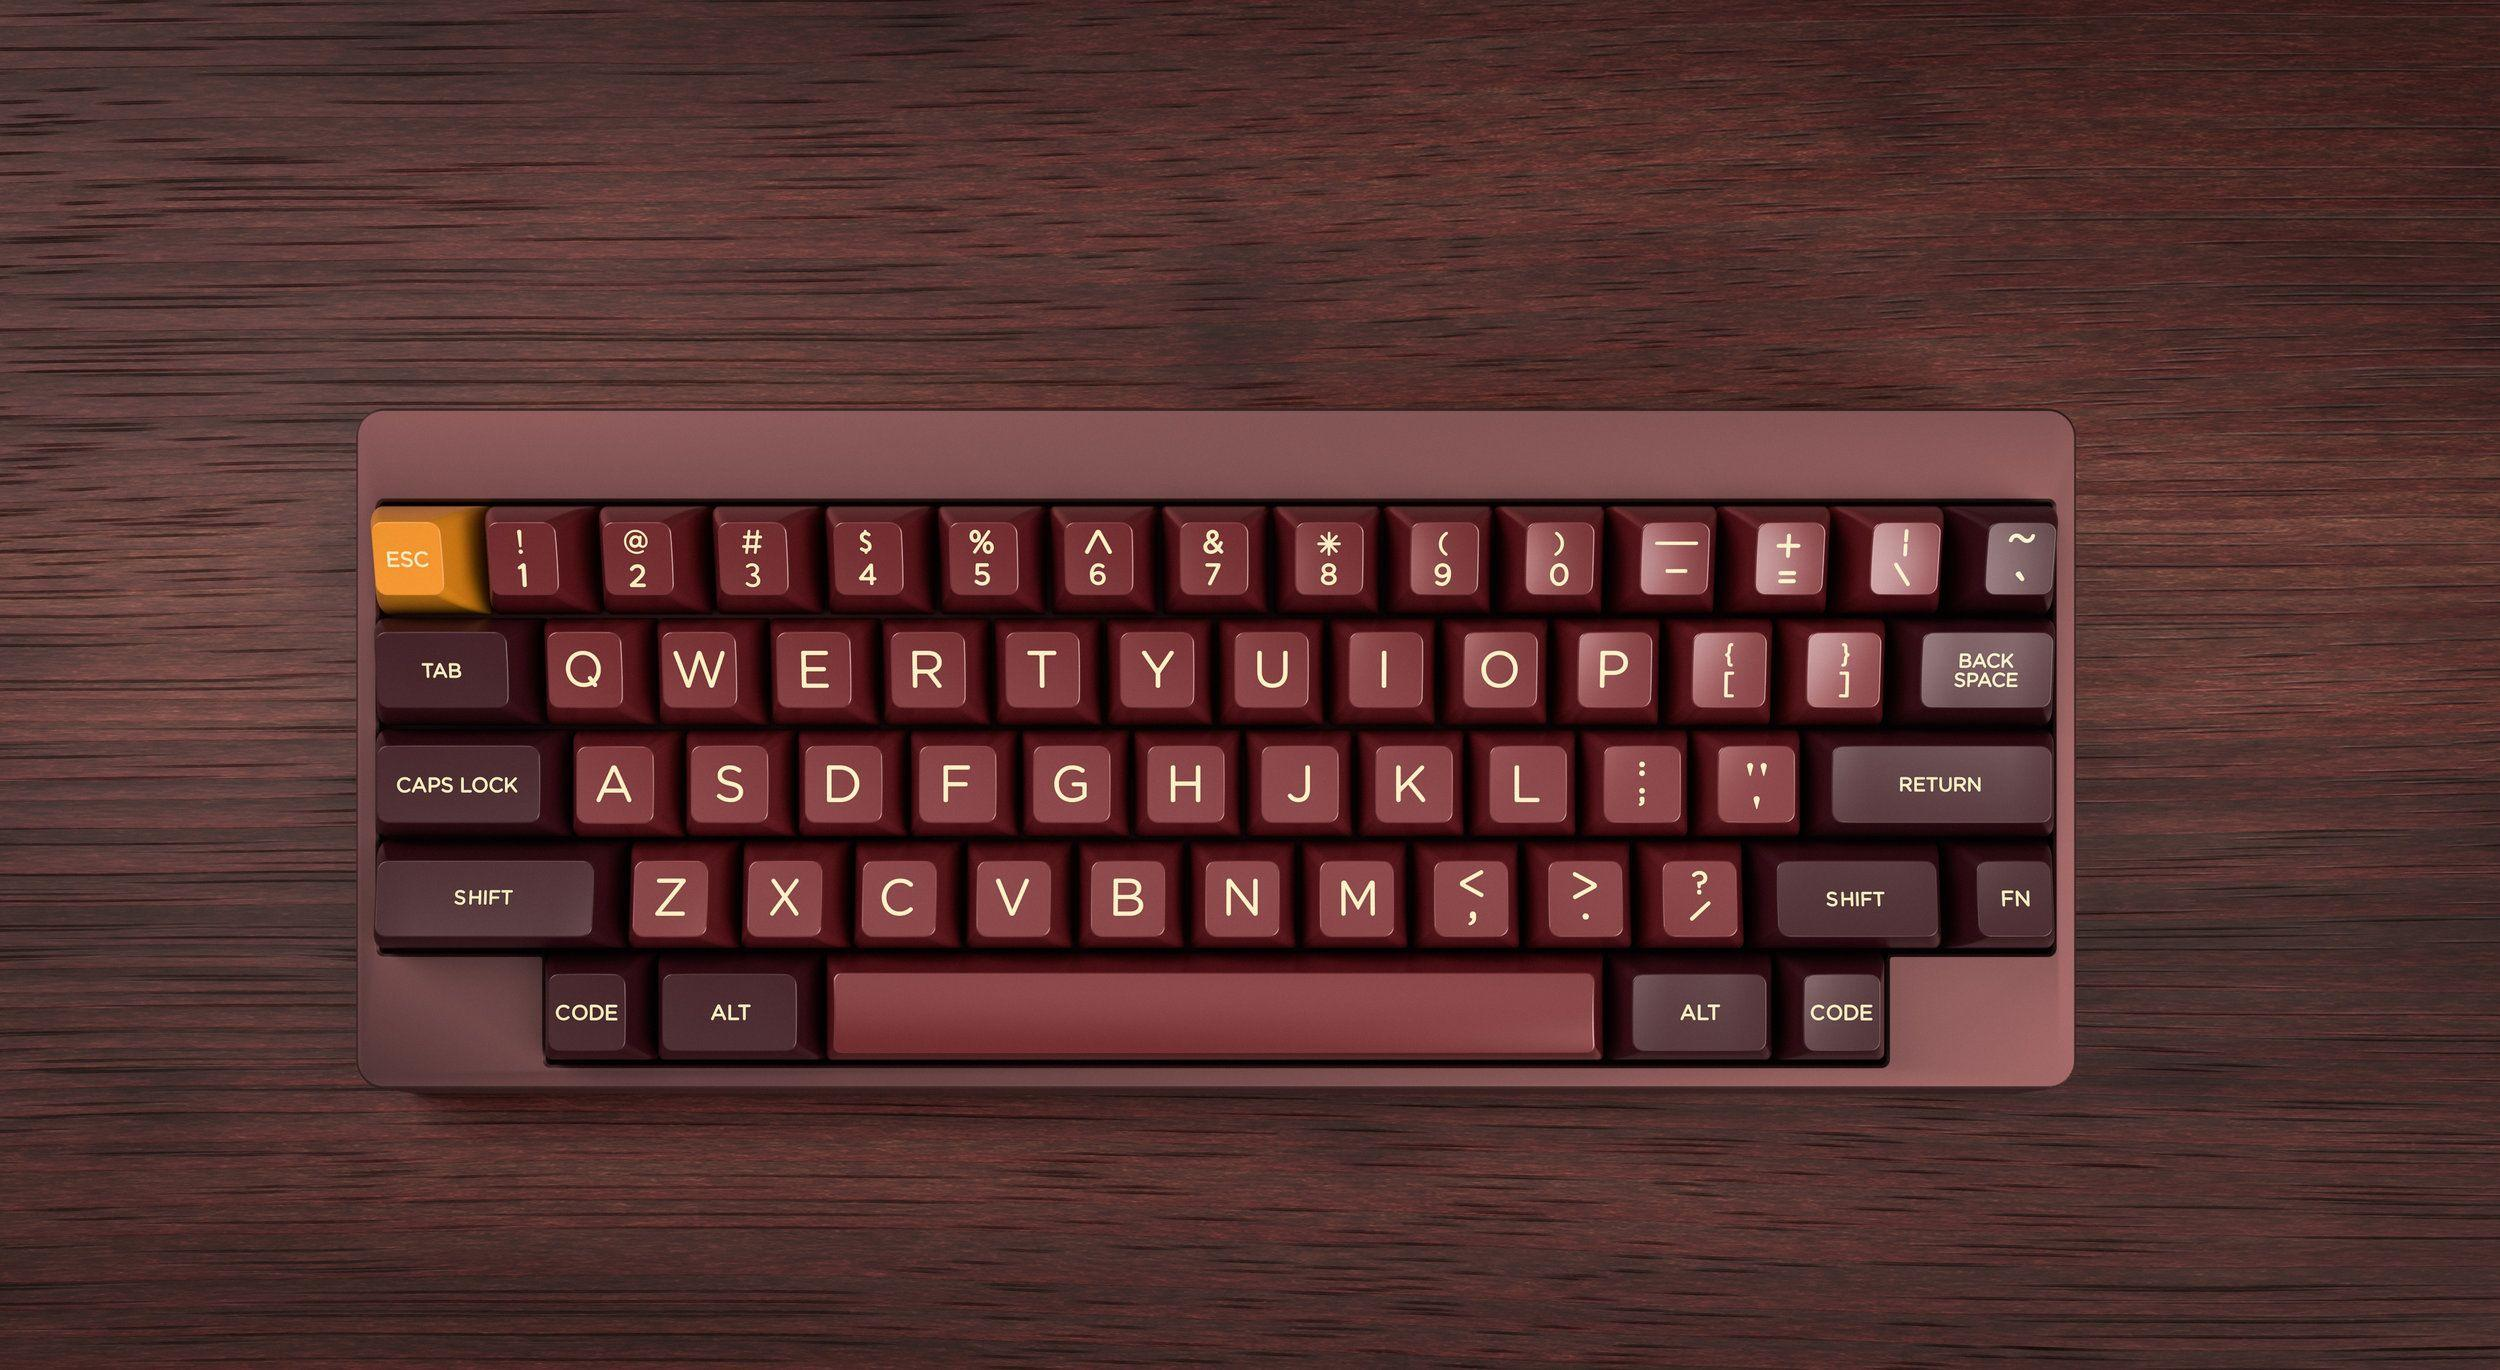keyboard: (354, 403, 2078, 1095)
